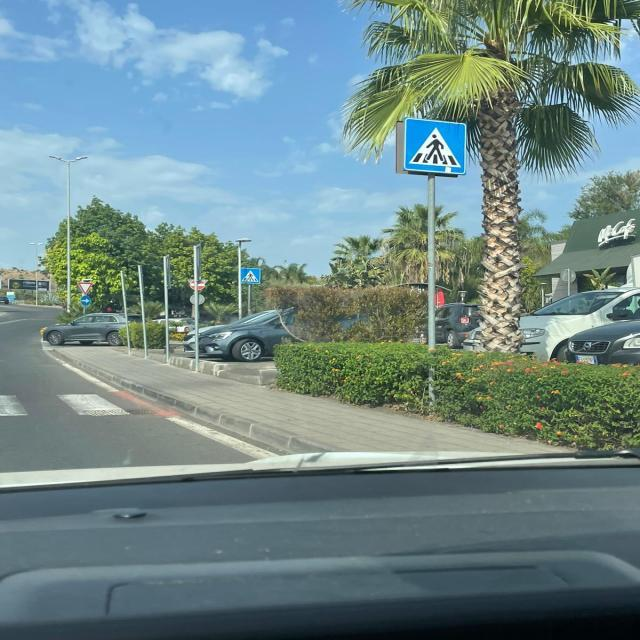info_crosswalk: (403, 118, 467, 176)
